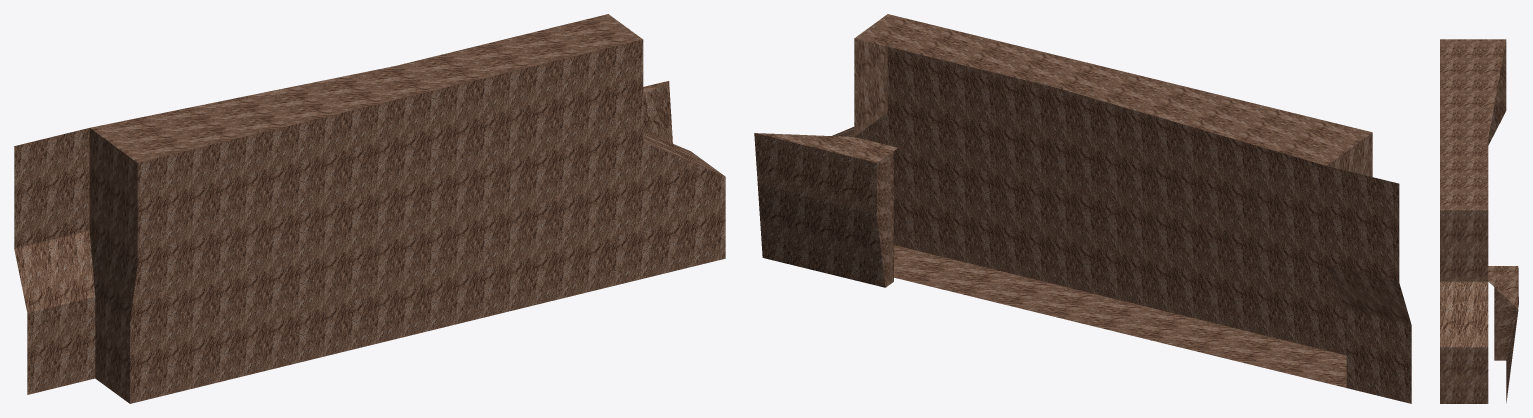
File: Cave_Mesh.Background.fbx
3 views of the same model, side by side, from view 1: azimuth 30°, elevation 25°; view 2: azimuth 150°, elevation 25°; view 3: azimuth 270°, elevation 25° (orthographic). The views are drawn at different scales.
Parts seen in each view (by area): view 1: Cave.mesh.background; view 2: Cave.mesh.background; view 3: Cave.mesh.background.
Part boxes in pixels (x1,y1,x2,y2): Cave.mesh.background: (14,14,725,403); Cave.mesh.background: (754,14,1411,403); Cave.mesh.background: (1440,39,1518,403).
Size of the model in its own units: 8800 by 3032 by 1307.
